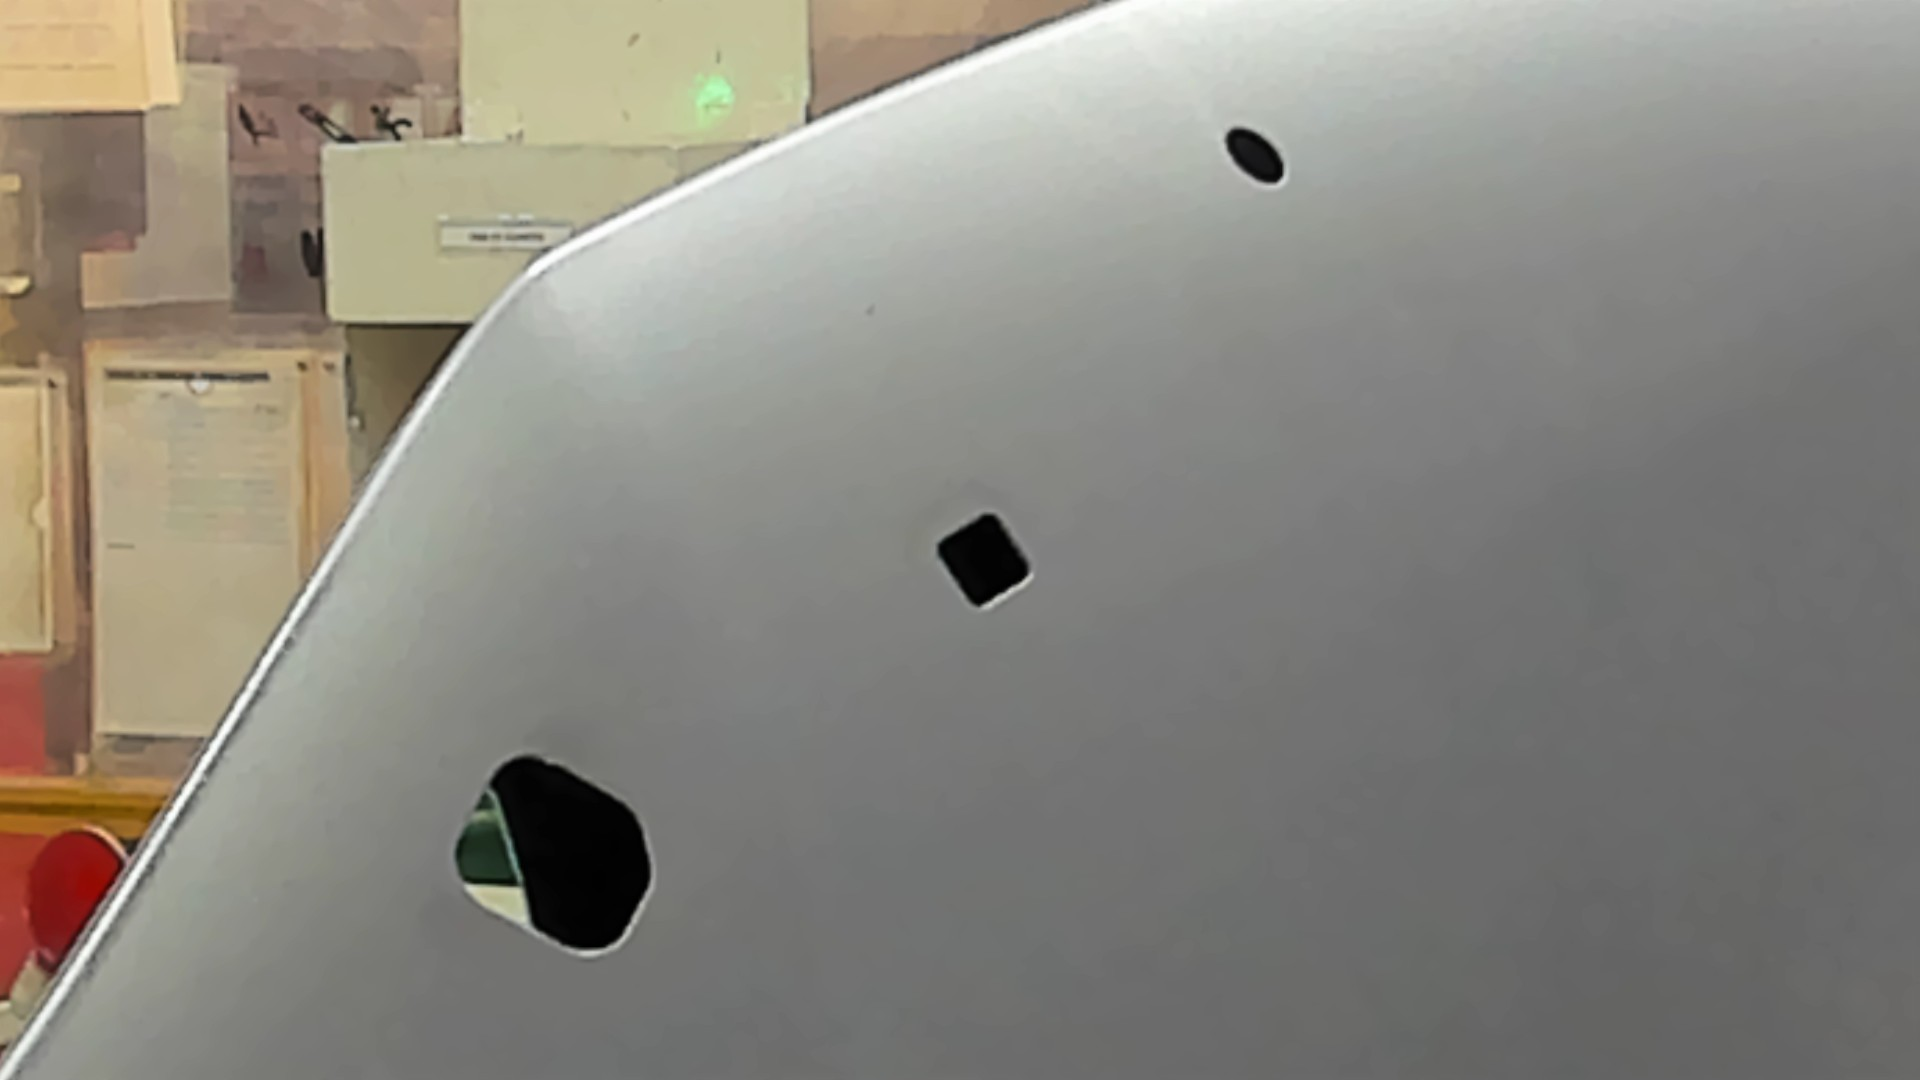chico: (1218, 117, 1300, 200)
grande: (430, 729, 669, 976)
mediano: (905, 501, 1068, 626)
